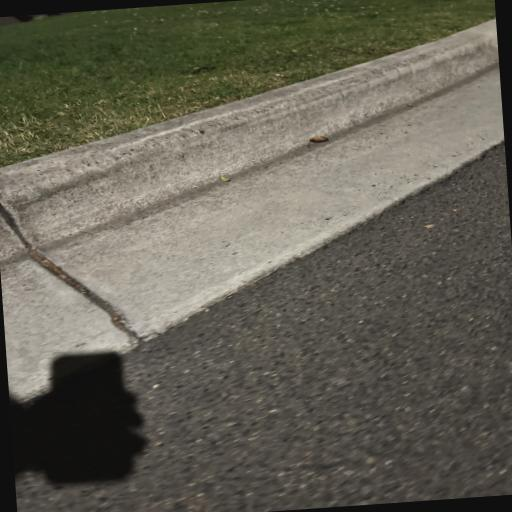kerb: (0, 19, 504, 398)
